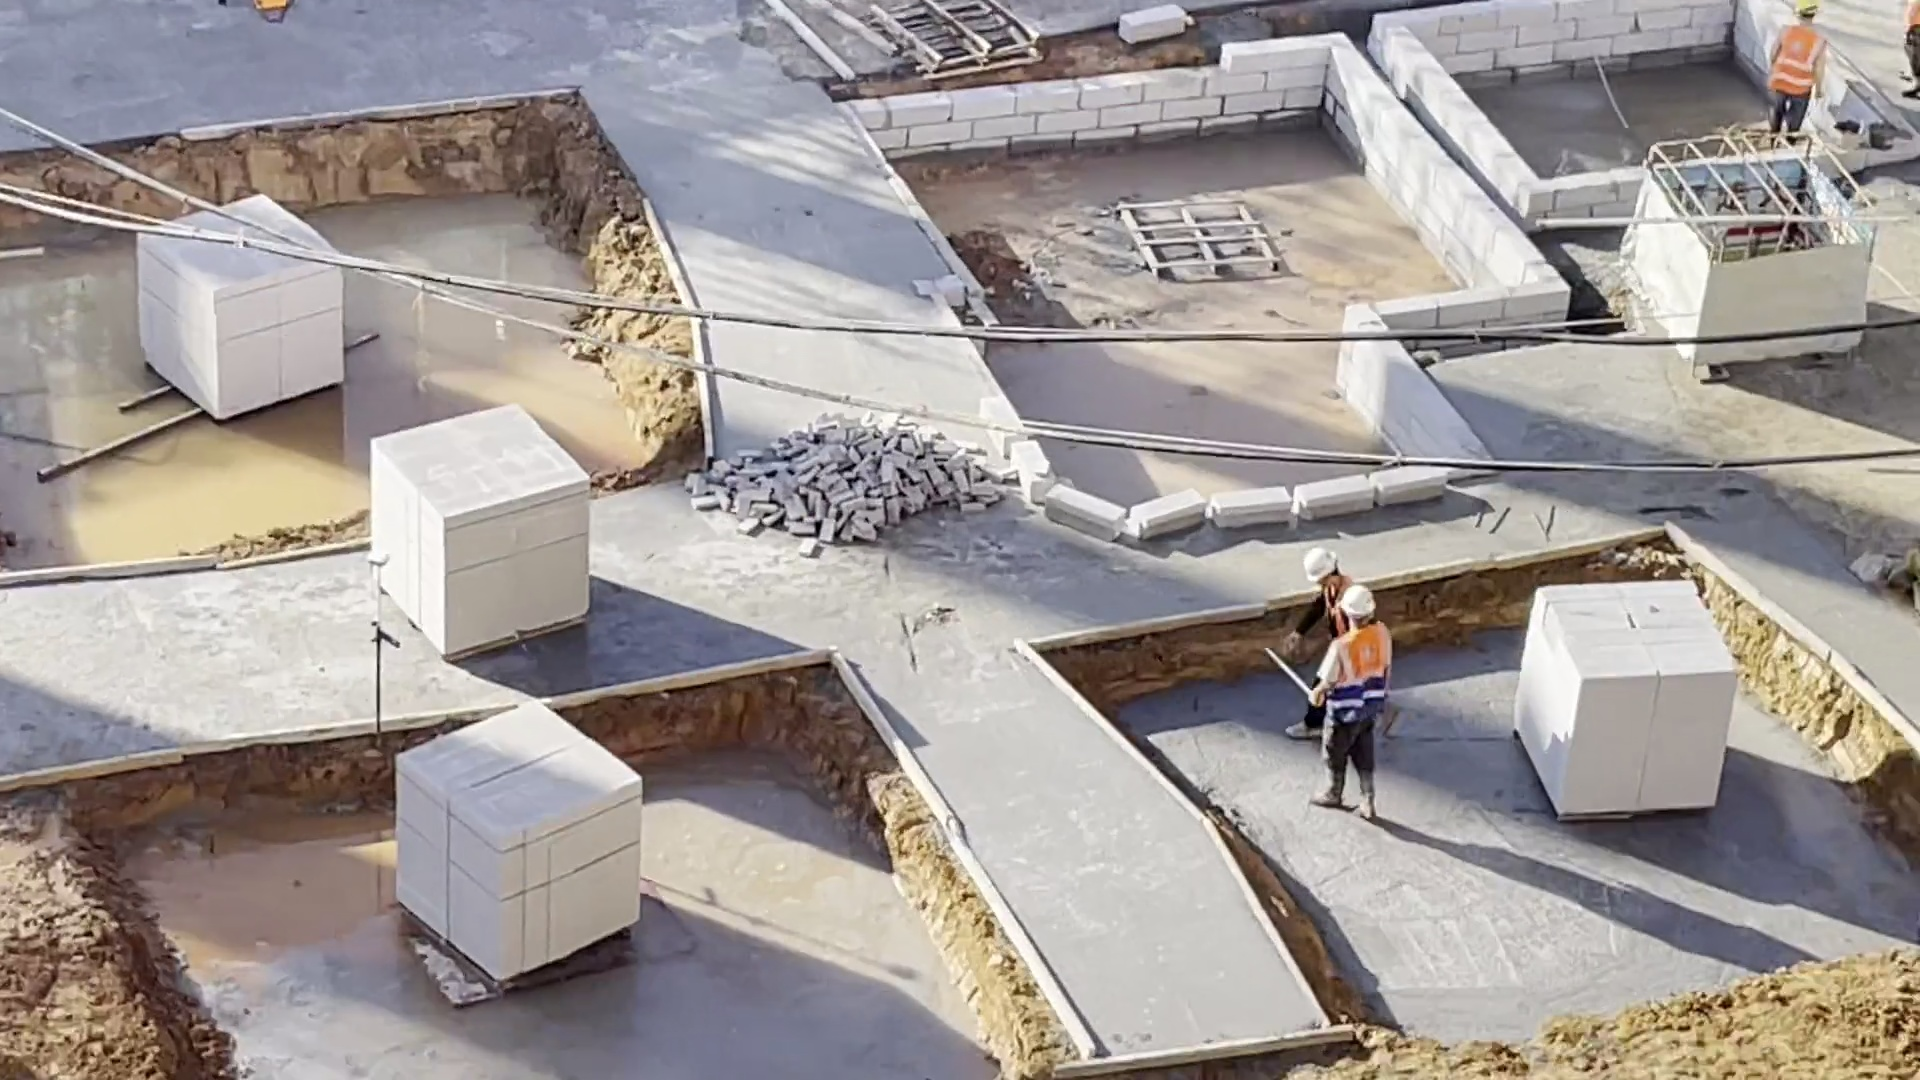helmet: (1303, 546, 1340, 587), (1340, 590, 1378, 620), (1794, 1, 1821, 14)
person: (1299, 585, 1386, 823), (1756, 1, 1837, 128), (1896, 2, 1920, 95)
vest: (1328, 627, 1386, 726), (1773, 26, 1822, 95)
